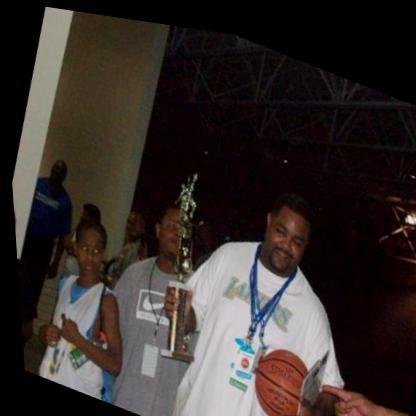basketball: (236, 326, 316, 416)
